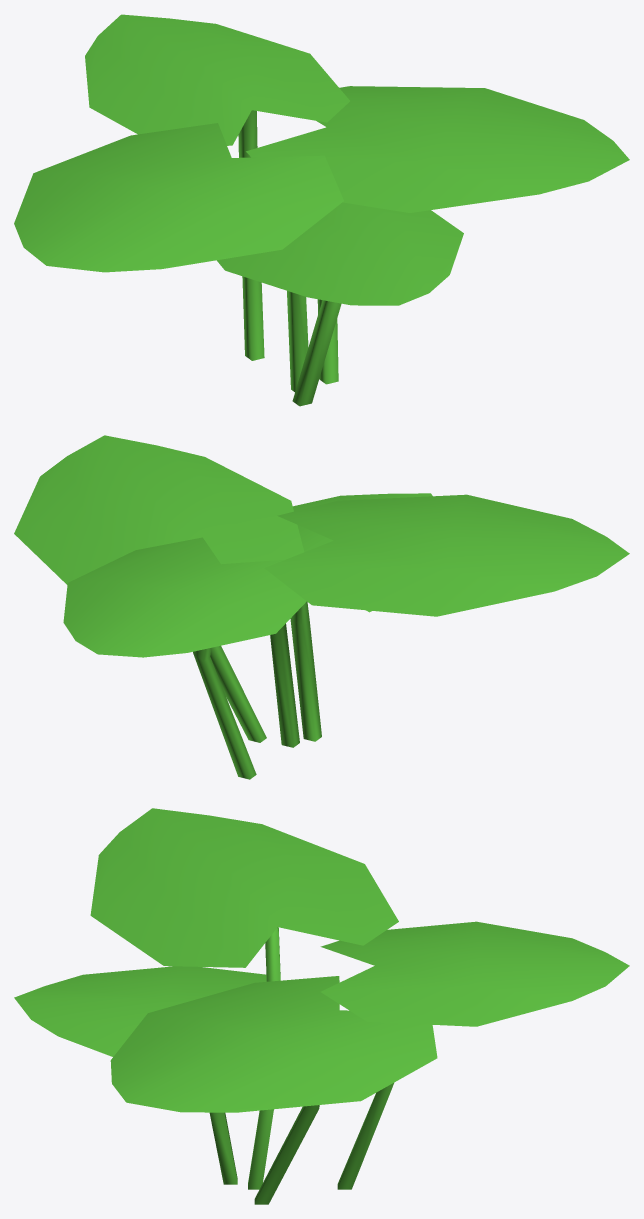
The model's file is Grass_24.fbx.
3 views of the same model, one above another, from view 1: azimuth 30°, elevation 25°; view 2: azimuth 150°, elevation 25°; view 3: azimuth 270°, elevation 25° (orthographic). The views are drawn at different scales.
Visible parts, largest first — view 1: Grass_24; view 2: Grass_24; view 3: Grass_24.
Boxes of the visible parts, left/top/right/bottom form: Grass_24: left=14, top=14, right=629, bottom=406; Grass_24: left=14, top=435, right=629, bottom=779; Grass_24: left=14, top=808, right=629, bottom=1204.
Bounding box in the file's own units: 112 × 45.92 × 105.
